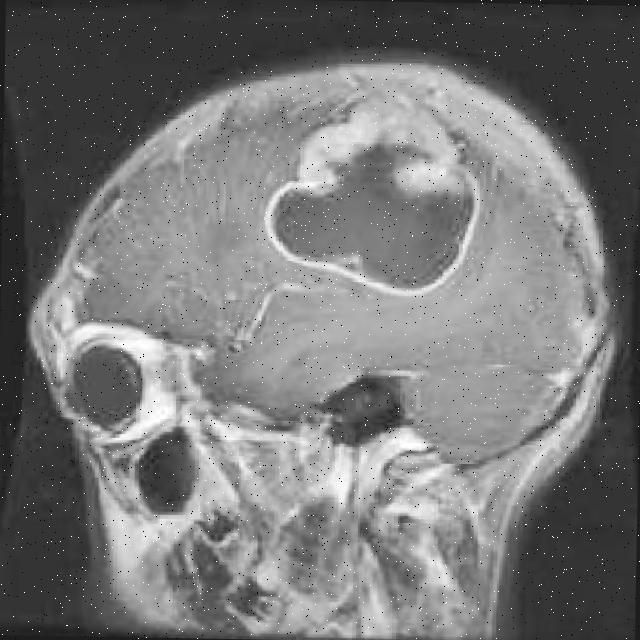EMCI: (259, 96, 507, 196)
